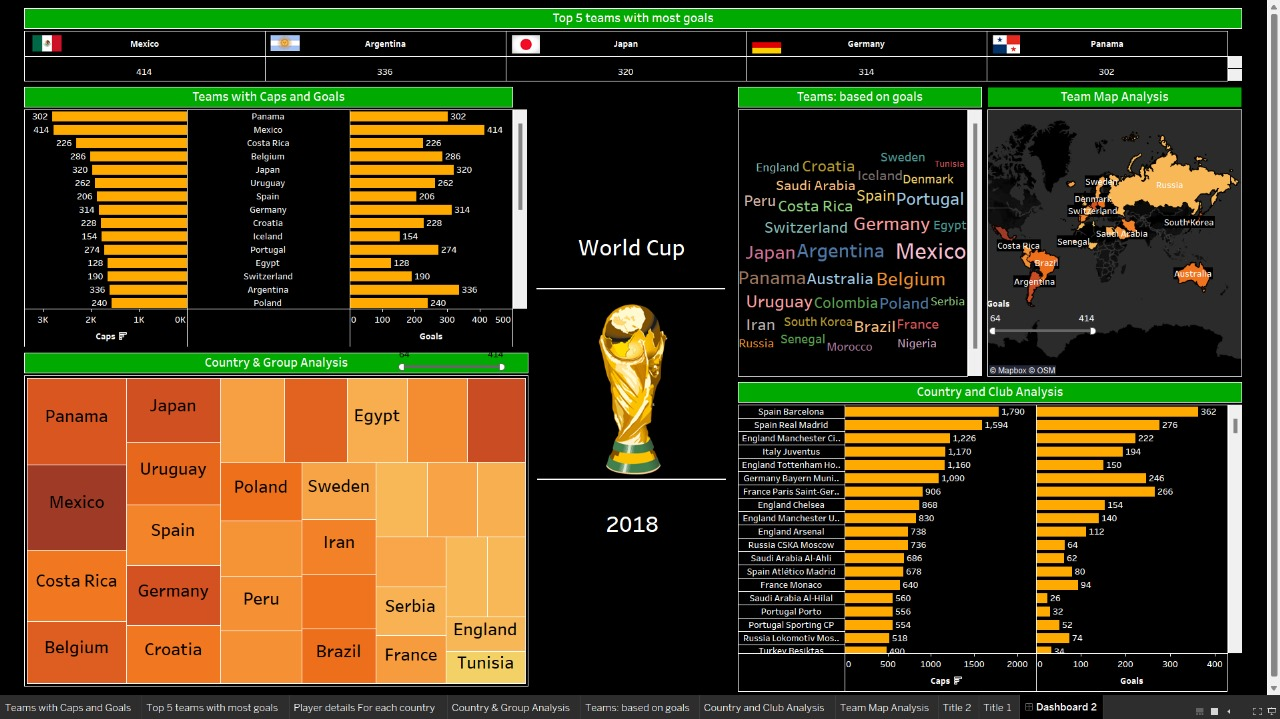

What the dashboard file says about the page in this screenshot:
{"tool":"tableau","page":{"name":"Dashboard 2","canvas":[1850,1050],"ordinal":0},"visuals":[{"type":"worksheet","title":"Top 5 teams with most goals","mark":"Automatic","cols":["Team"],"box":[8,8,1834,118]},{"type":"image","param":"C:/Users/mukes/OneDrive/Desktop/my work college/SEMESTER 6/BIVA/Project/Dashboar","box":[24,52,44,28]},{"type":"image","param":"C:/Users/mukes/OneDrive/Desktop/my work college/SEMESTER 6/BIVA/Project/Dashboar","box":[381,52,44,28]},{"type":"image","param":"C:/Users/mukes/OneDrive/Desktop/my work college/SEMESTER 6/BIVA/Project/Dashboar","box":[743,52,44,28]},{"type":"image","param":"C:/Users/mukes/OneDrive/Desktop/my work college/SEMESTER 6/BIVA/Project/Dashboar","box":[1464,52,44,28]},{"type":"image","param":"C:/Users/mukes/OneDrive/Desktop/my work college/SEMESTER 6/BIVA/Project/Dashboar","box":[1103,54,44,28]},{"type":"worksheet","title":"Teams with Caps and Goals","mark":"Bar","rows":["Team"],"cols":["Caps","Calculation_388153993528827904","Goals"],"box":[8,126,764.1,399]},{"type":"image","param":"C:/Users/mukes/OneDrive/Desktop/my work college/SEMESTER 6/BIVA/Project/Dashboar","box":[772.1,126,305.7,916]},{"type":"worksheet","title":"Teams: based on goals","mark":"Text","box":[1077.8,126,374.1,443]},{"type":"worksheet","title":"Team Map Analysis","mark":"Multipolygon","box":[1451.9,126,390.1,443]},{"type":"worksheet","title":"Title 1","mark":"Automatic","box":[770,347,306,49]},{"type":"blank","box":[780,432,283,2]},{"type":"filter","title":"Team Map Analysis","param":"[federated.03d5vds1g1a9y219pa3td10413da].[sum:Goals:qk]","box":[1455,446,168,70]},{"type":"filter","title":"Country & Group Analysis","param":"[federated.03d5vds1g1a9y219pa3td10413da].[sum:Goals:qk]","box":[569,519,168,38]},{"type":"worksheet","title":"Country & Group Analysis","mark":"Automatic","box":[8,525,764.1,517]},{"type":"worksheet","title":"Country and Club Analysis","mark":"Bar","rows":["Country and Club"],"cols":["Caps","Goals"],"box":[1077.8,569,764.2,473]},{"type":"blank","box":[781,718,283,2]},{"type":"worksheet","title":"Title 2","mark":"Automatic","box":[787,726,274,118]}]}

Visuals, with their boxes on the page's 1850x1050 design canvas (x1, y1, x2, y2). These are canvas units, not pixel positions in the 1280x719 screenshot, which may show the page scaled, cropped or inside an application window:
"Top 5 teams with most goals" worksheet: <bbox>8, 8, 1842, 126</bbox>
image: <bbox>24, 52, 68, 80</bbox>
image: <bbox>381, 52, 425, 80</bbox>
image: <bbox>743, 52, 787, 80</bbox>
image: <bbox>1464, 52, 1508, 80</bbox>
image: <bbox>1103, 54, 1147, 82</bbox>
"Teams with Caps and Goals" worksheet (Bar marks): <bbox>8, 126, 772, 525</bbox>
image: <bbox>772, 126, 1078, 1042</bbox>
"Teams: based on goals" worksheet (Text marks): <bbox>1078, 126, 1452, 569</bbox>
"Team Map Analysis" worksheet (Multipolygon marks): <bbox>1452, 126, 1842, 569</bbox>
"Title 1" worksheet: <bbox>770, 347, 1076, 396</bbox>
blank: <bbox>780, 432, 1063, 434</bbox>
"Team Map Analysis" filter: <bbox>1455, 446, 1623, 516</bbox>
"Country & Group Analysis" filter: <bbox>569, 519, 737, 557</bbox>
"Country & Group Analysis" worksheet: <bbox>8, 525, 772, 1042</bbox>
"Country and Club Analysis" worksheet (Bar marks): <bbox>1078, 569, 1842, 1042</bbox>
blank: <bbox>781, 718, 1064, 720</bbox>
"Title 2" worksheet: <bbox>787, 726, 1061, 844</bbox>
